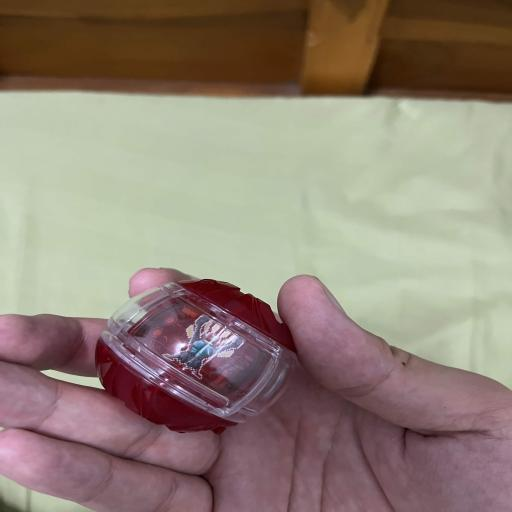capsem: (96, 279, 295, 432)
